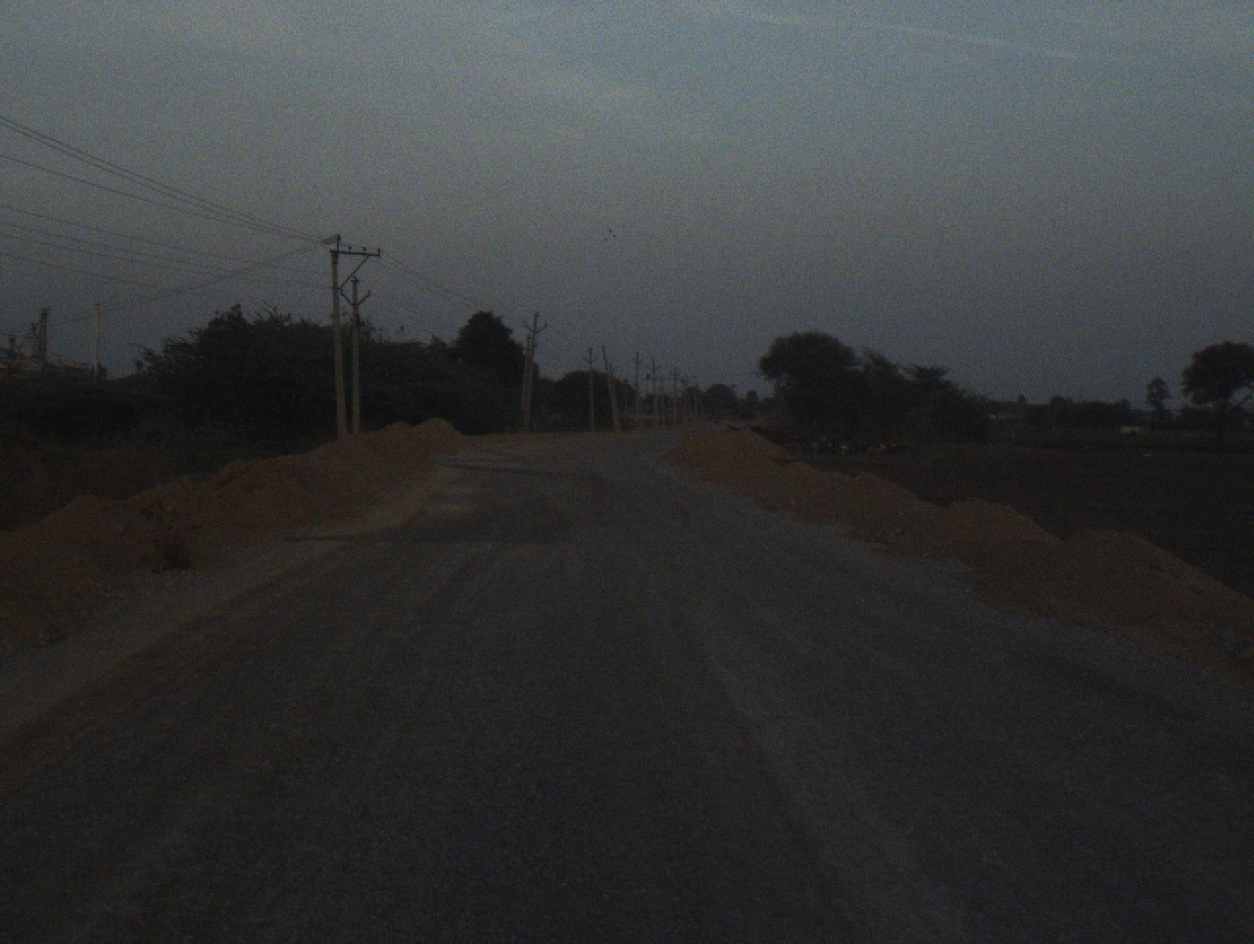animal: (799, 435, 853, 459), (855, 442, 907, 461), (760, 422, 795, 446)
